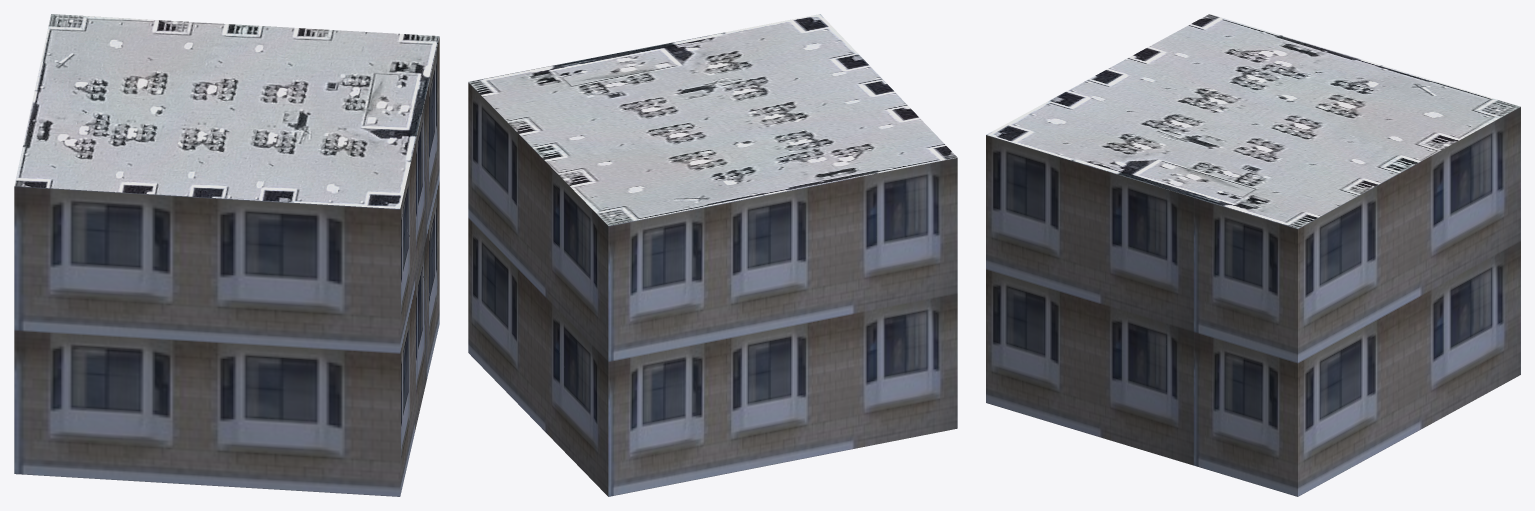
Rendered from ResTex__4717.fbx.
3 views of the same model, side by side, from view 1: azimuth 30°, elevation 25°; view 2: azimuth 150°, elevation 25°; view 3: azimuth 270°, elevation 25° (orthographic). The views are drawn at different scales.
Parts seen in each view (by area): view 1: CityEngineMaterial_3_m, CityEngineMaterial_4_m; view 2: CityEngineMaterial_3_m, CityEngineMaterial_4_m; view 3: CityEngineMaterial_3_m, CityEngineMaterial_4_m.
Boxes of the visible parts, x1,y1,x2,y2 form: CityEngineMaterial_3_m: (14, 37, 439, 496); CityEngineMaterial_4_m: (14, 14, 439, 208); CityEngineMaterial_3_m: (468, 82, 957, 496); CityEngineMaterial_4_m: (468, 14, 957, 225); CityEngineMaterial_3_m: (986, 107, 1520, 496); CityEngineMaterial_4_m: (986, 14, 1520, 228).
Size of the model in its own units: 10.31 by 6 by 10.85.
Materials: 2 (2 with a texture image).
